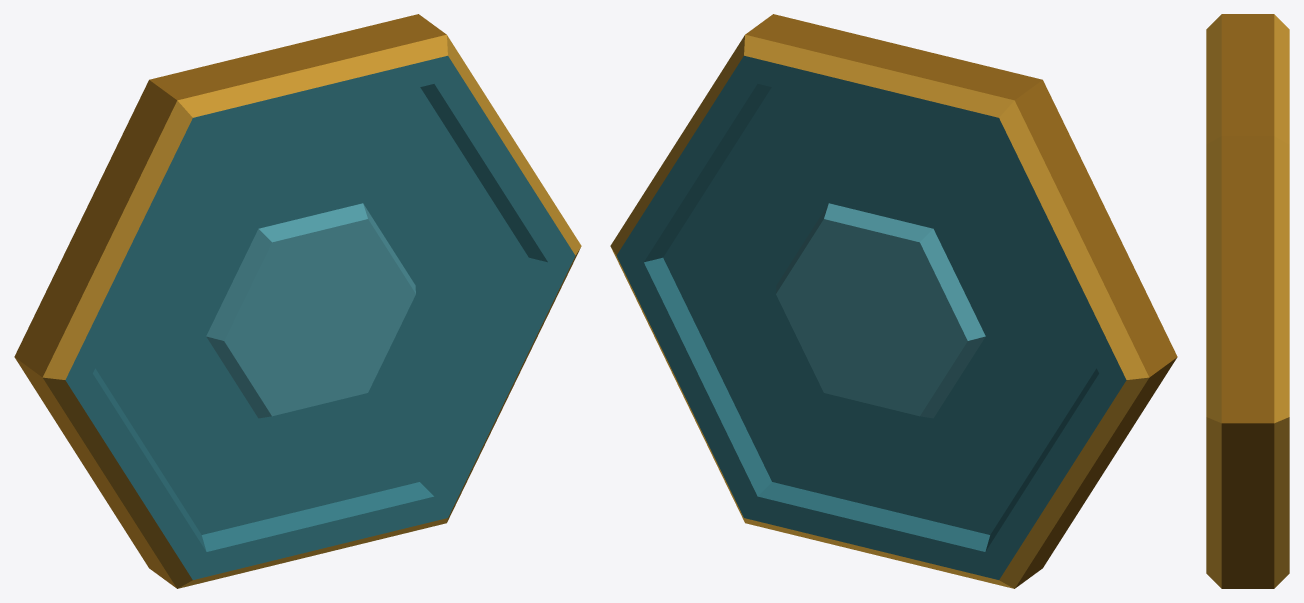
The model's file is Coin_37.glb.
3 views of the same model, side by side, from view 1: azimuth 30°, elevation 25°; view 2: azimuth 150°, elevation 25°; view 3: azimuth 270°, elevation 25° (orthographic). The views are drawn at different scales.
Visible parts, largest first — view 1: Coin_37; view 2: Coin_37; view 3: Coin_37.
Boxes of the visible parts, box(x1,y1,x2,y2) form: Coin_37: box(14, 14, 581, 588); Coin_37: box(610, 14, 1177, 588); Coin_37: box(1206, 14, 1289, 588).
Bounding box in the file's own units: 1.68 × 1.45 × 0.242.
